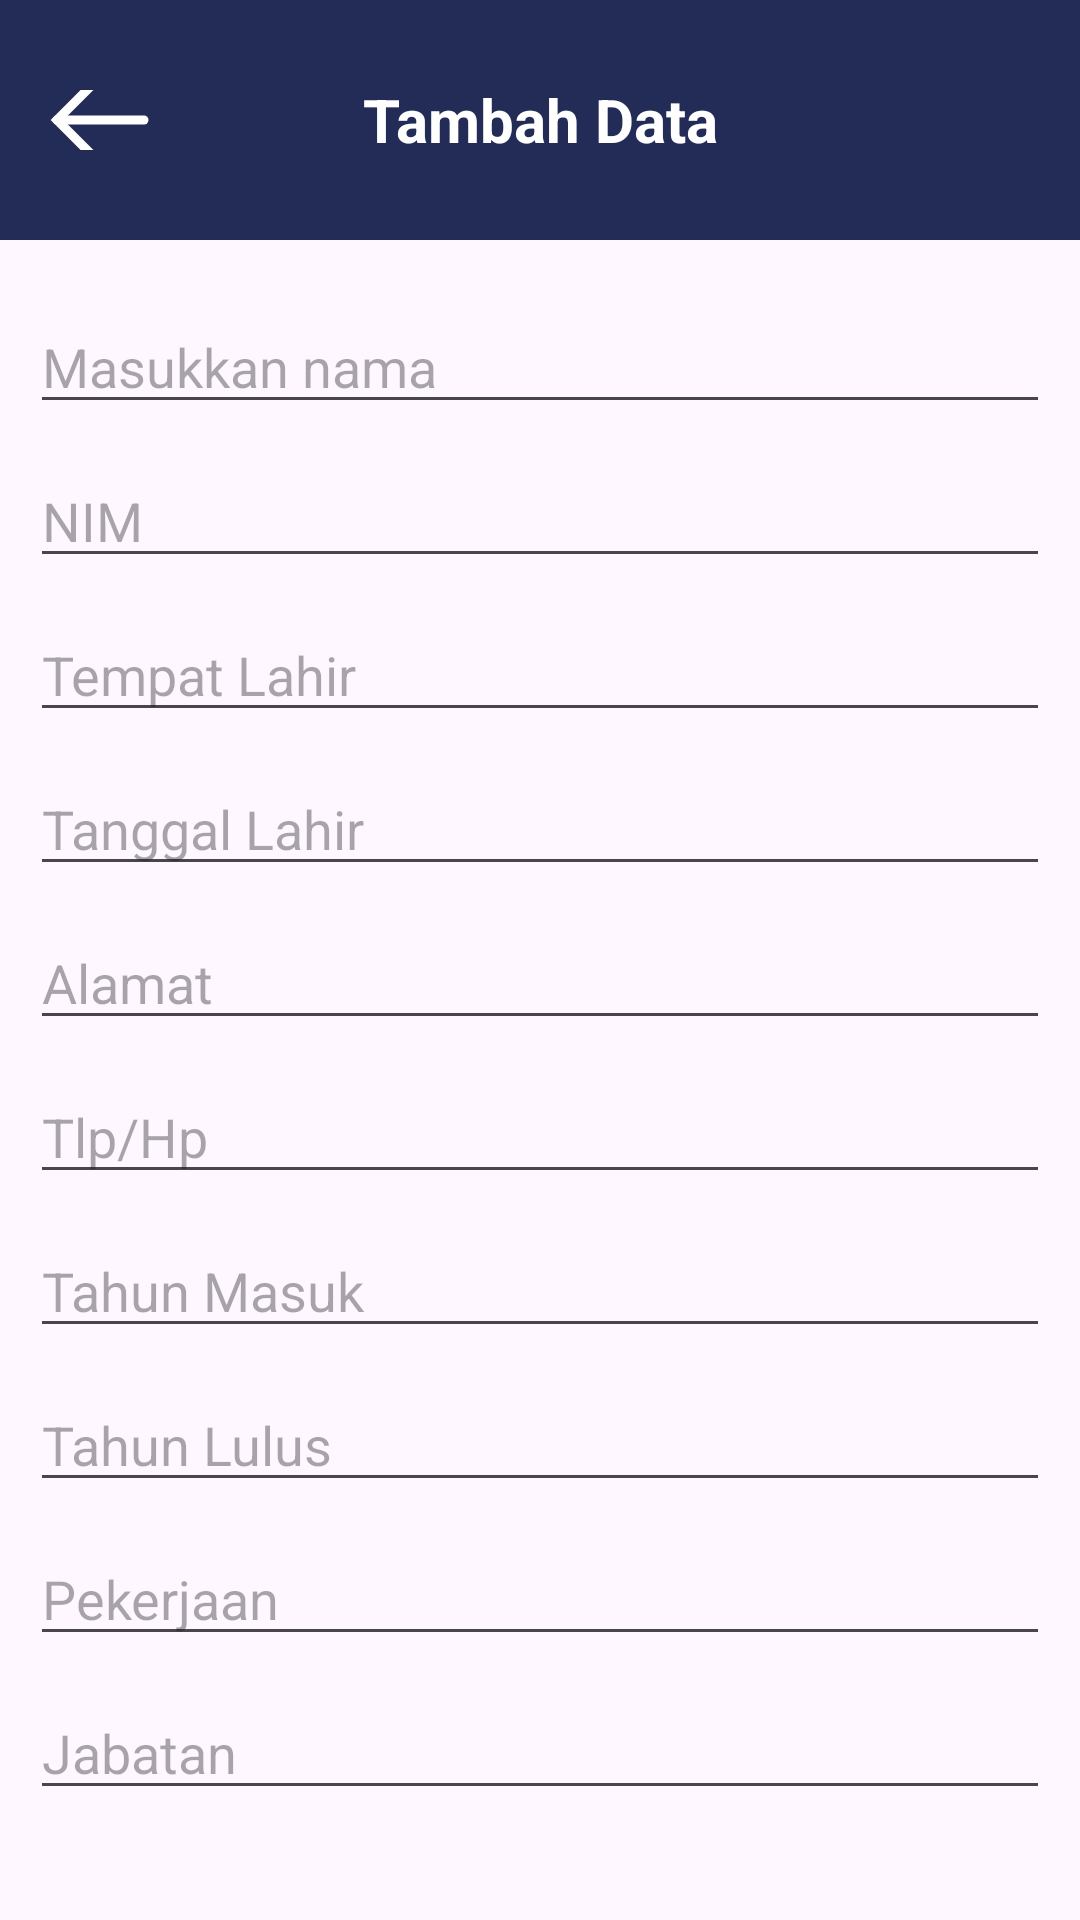

Locate icon controls on the screen. Image size 1080px×1920px, boxes as rect(x1, y1, x2, y2).
backbutton: rect(51, 90, 149, 150)
